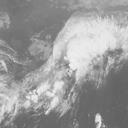cyclone: (56, 17, 124, 76)
